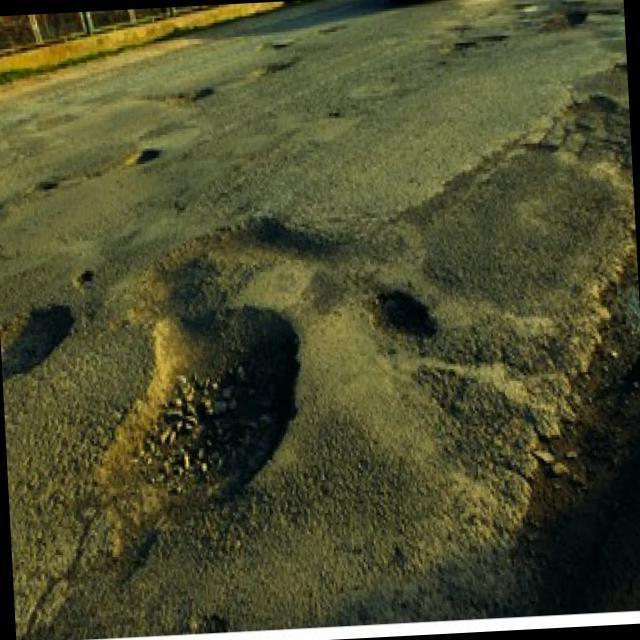pothole: (92, 296, 310, 532), (127, 210, 339, 302), (557, 88, 635, 219), (0, 300, 79, 395), (366, 289, 439, 356), (537, 9, 589, 37), (165, 86, 216, 112), (250, 60, 295, 80), (126, 146, 162, 168), (72, 266, 97, 288), (479, 33, 509, 45), (33, 181, 59, 192), (454, 40, 478, 49), (561, 0, 585, 7), (597, 10, 623, 16), (514, 2, 533, 10), (273, 42, 288, 50), (328, 111, 341, 119)
